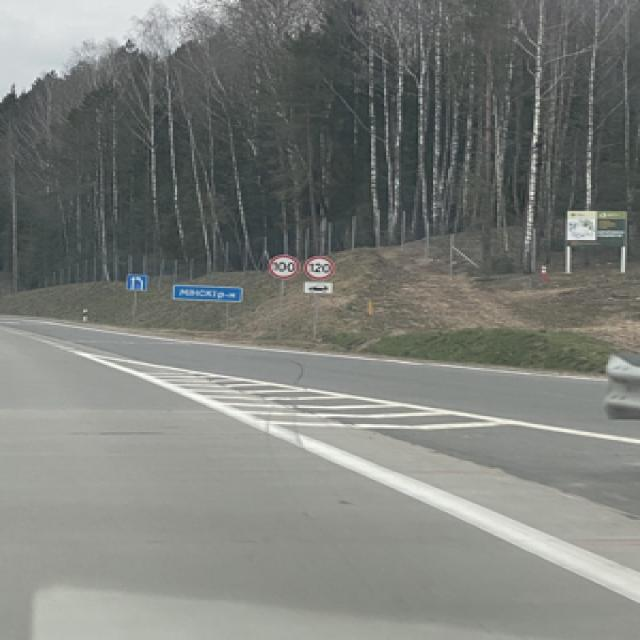speedlimit: (264, 251, 296, 277), (305, 253, 333, 275)
